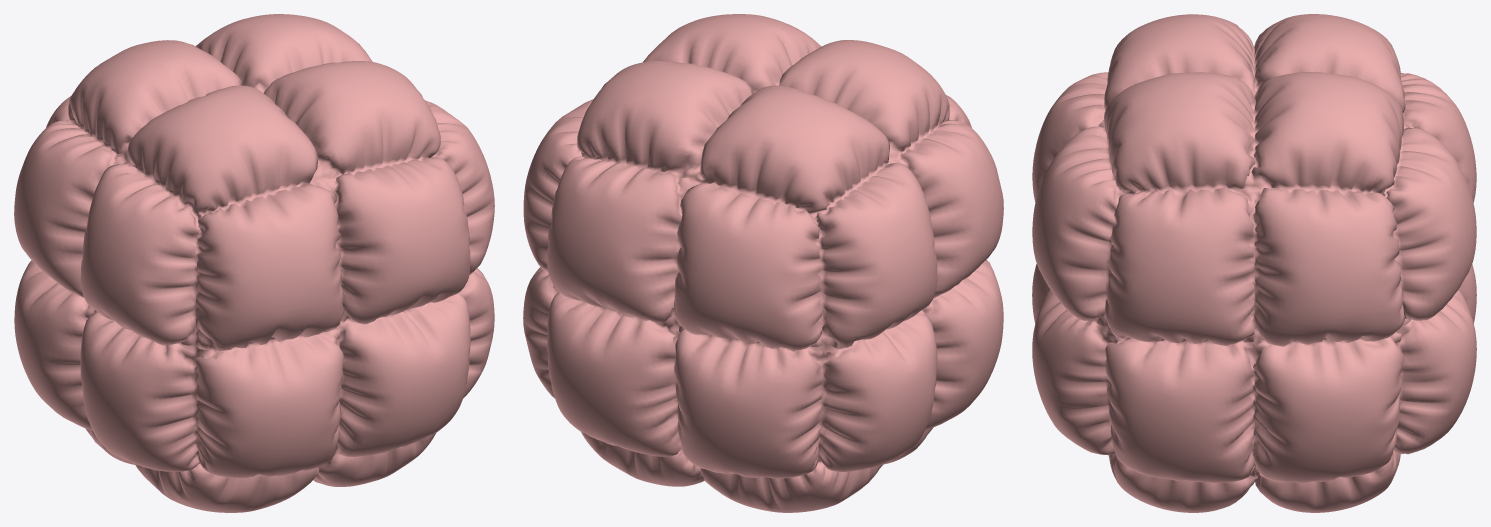
3 views of the same model, side by side, from view 1: azimuth 30°, elevation 25°; view 2: azimuth 150°, elevation 25°; view 3: azimuth 270°, elevation 25° (orthographic). The views are drawn at different scales.
Visible parts, largest first — view 1: Shape; view 2: Shape; view 3: Shape.
Boxes of the visible parts, x1,y1,x2,y2 form: Shape: (14,14,494,512); Shape: (523,14,1003,512); Shape: (1032,14,1476,512).
Size of the model in its own units: 5.25 by 5.25 by 5.06.
